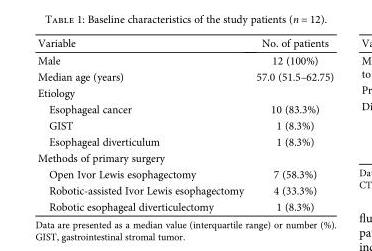table: (36, 36, 333, 212)
table column: (36, 36, 249, 212), (249, 36, 333, 212)
table column header: (36, 36, 333, 51)
table projected row header: (36, 84, 333, 100), (36, 149, 333, 165)
table row: (36, 51, 333, 68), (36, 116, 333, 133), (36, 181, 333, 198), (36, 68, 333, 84), (36, 84, 333, 100), (36, 100, 333, 116), (36, 133, 333, 149), (36, 149, 333, 165), (36, 165, 333, 181), (36, 36, 333, 51), (36, 198, 333, 212)
